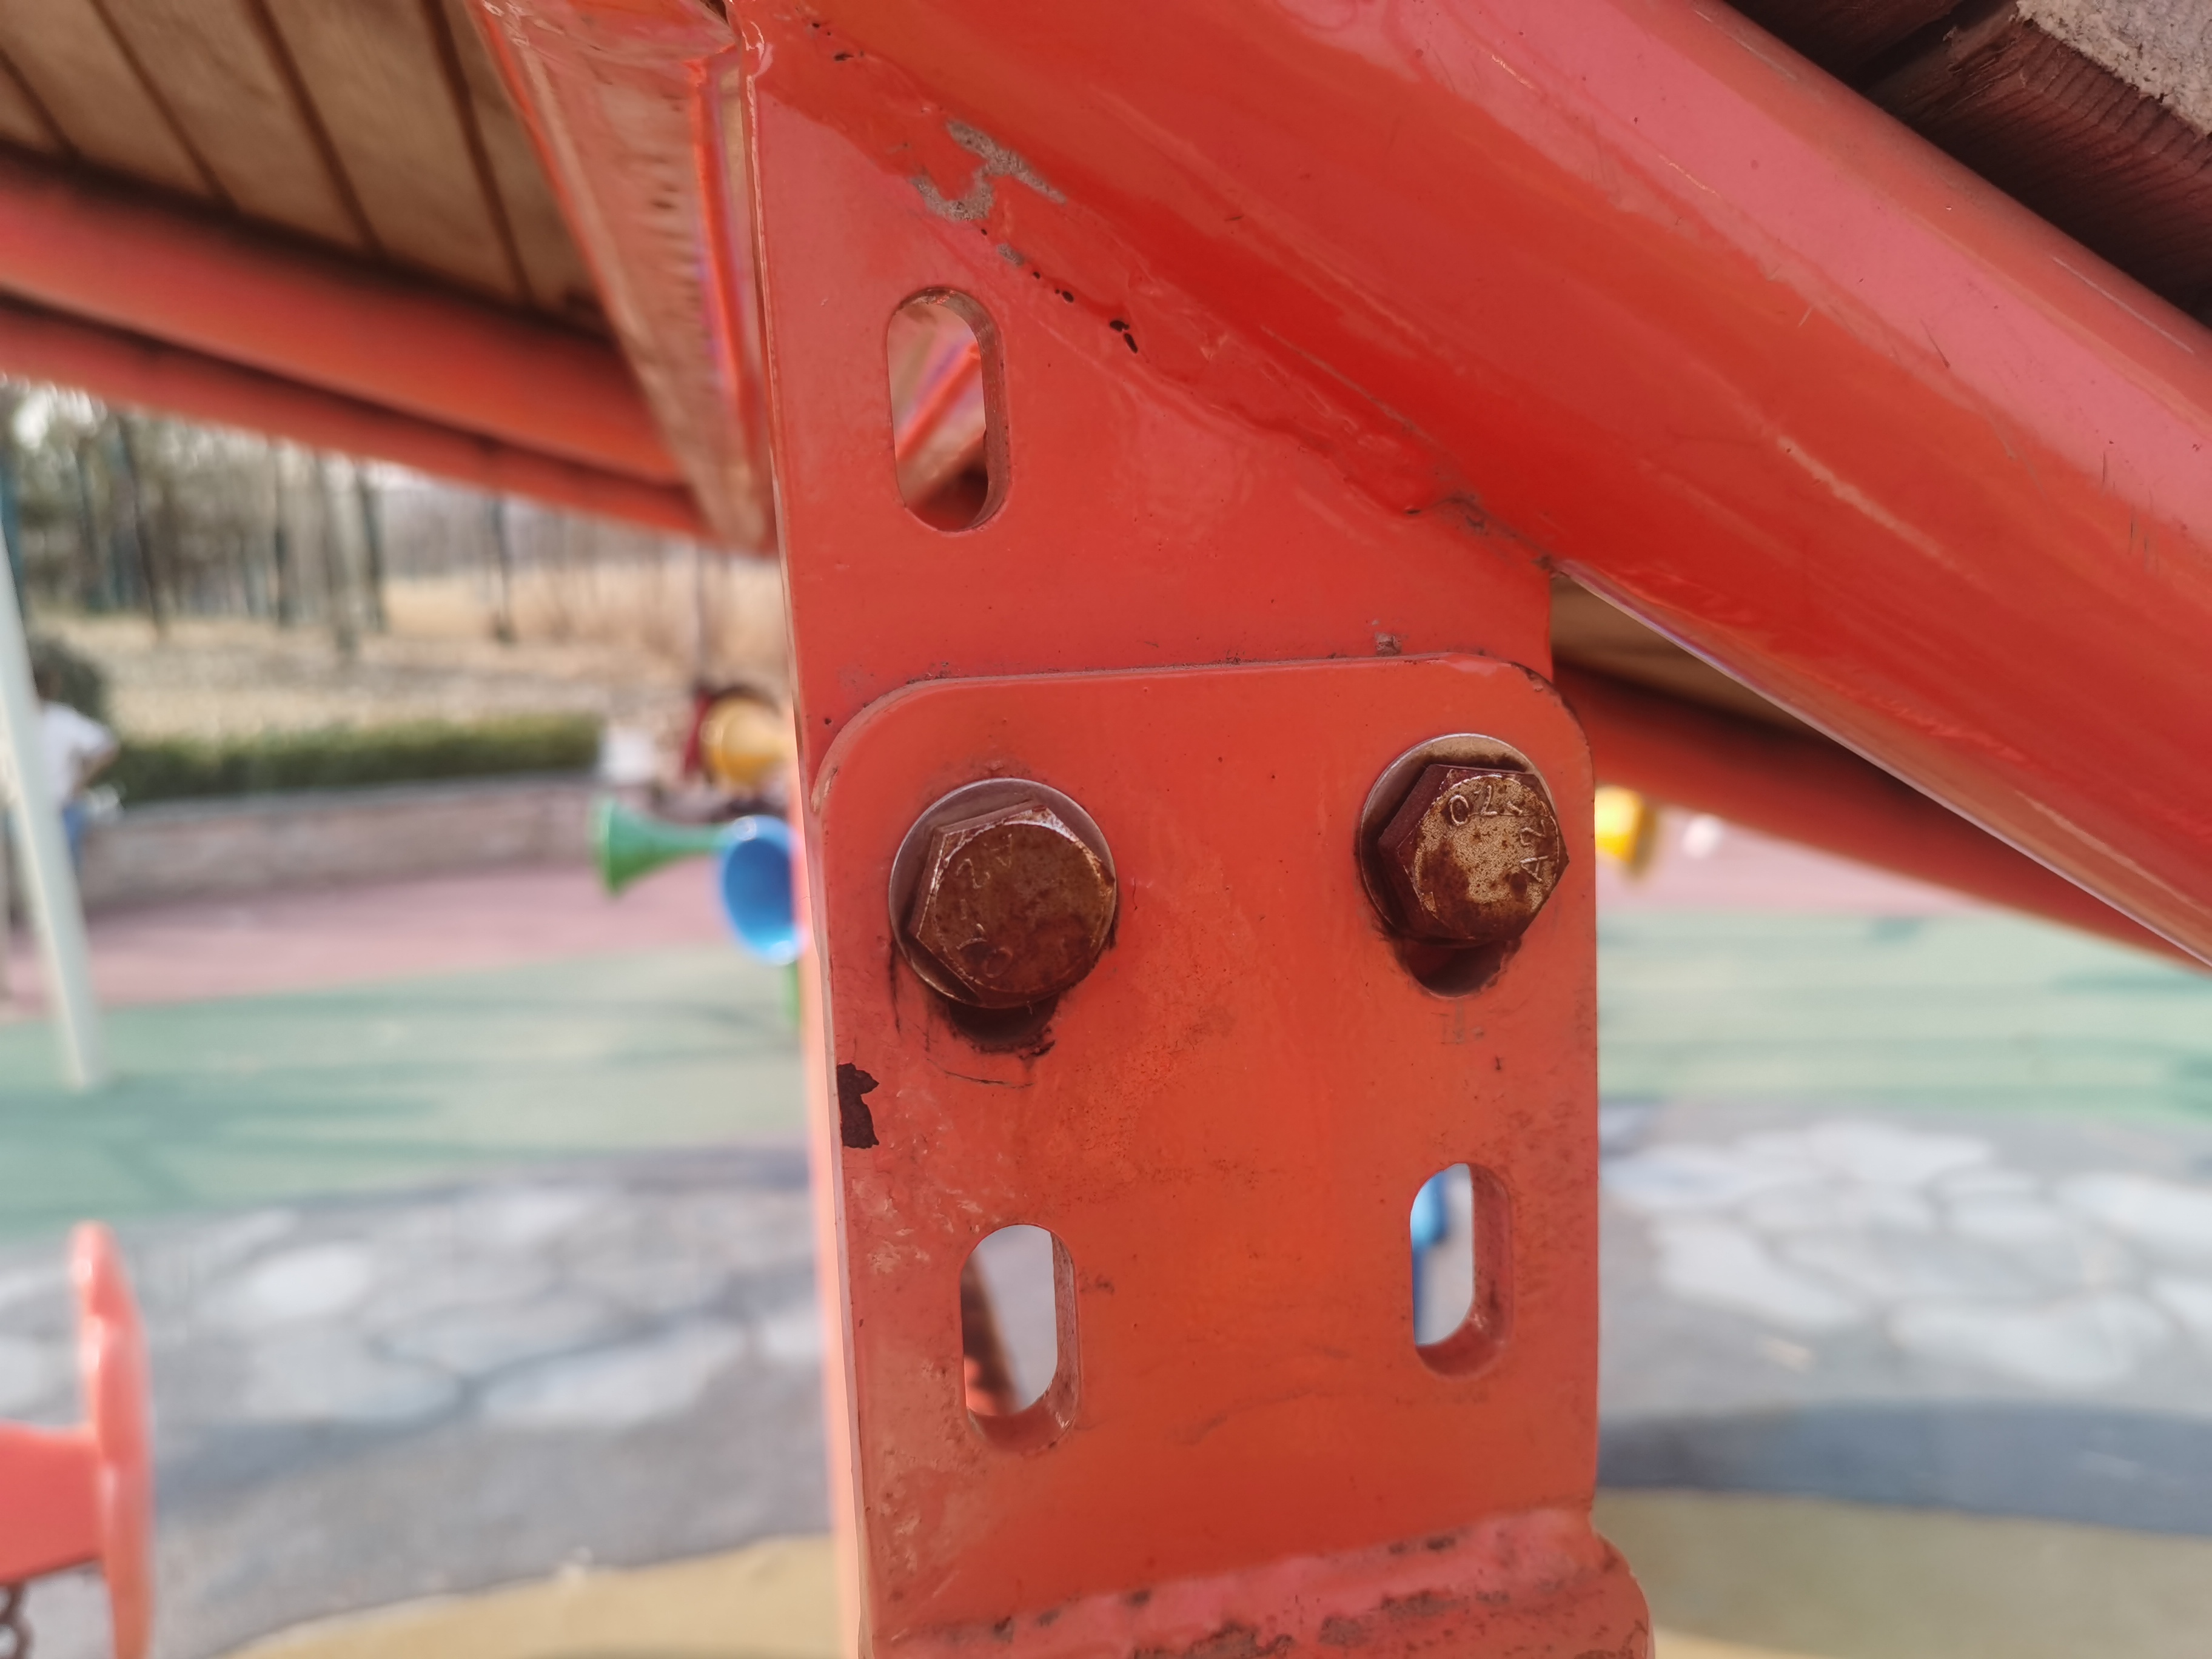bolt_a: (894, 789, 1122, 1019), (1360, 751, 1576, 955)
